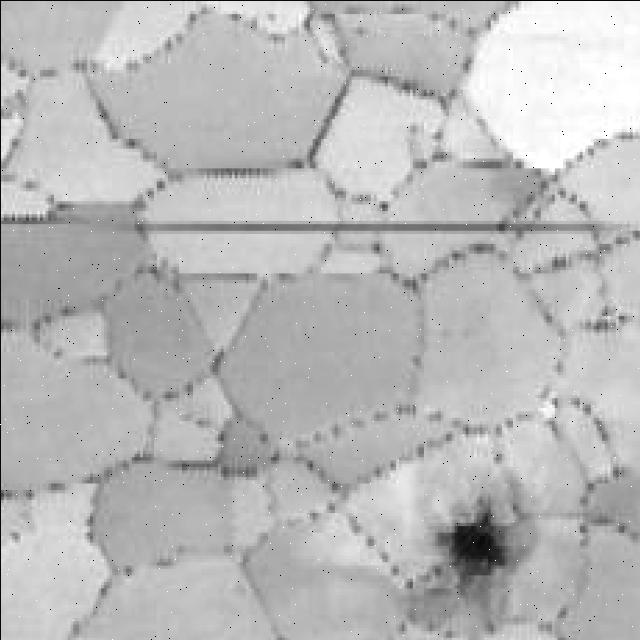good_void: (434, 502, 511, 604)
